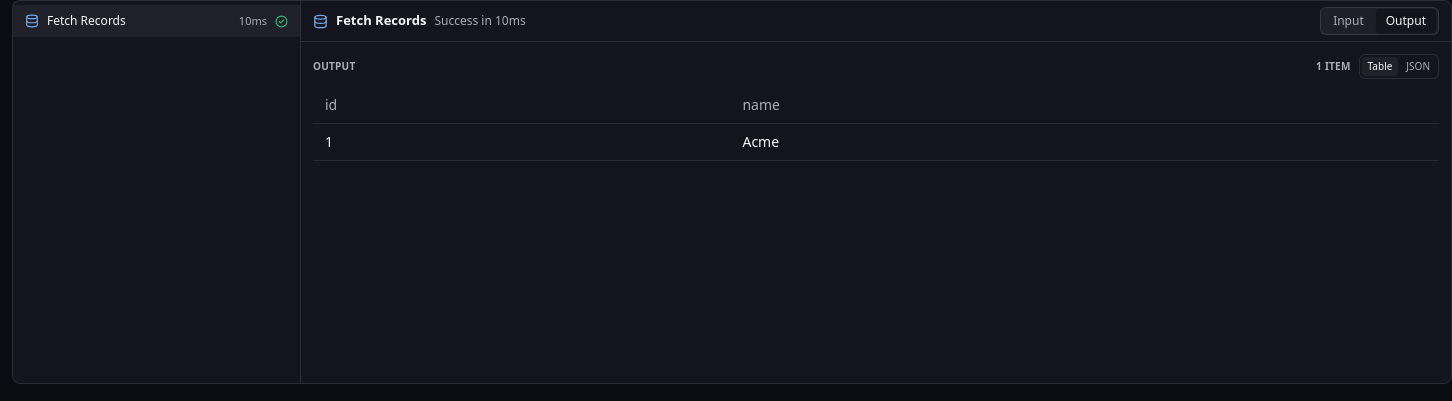
ExecutionLogsPanel › switches a table payload to its full JSON, wrapper fields included
Expected: the table is shown, [313,87,1439,161]
Expected: the text "1 item" is shown, [1316,59,1351,74]
Click the button "JSON".
click(1418, 66)  # box [1400,57,1436,76]
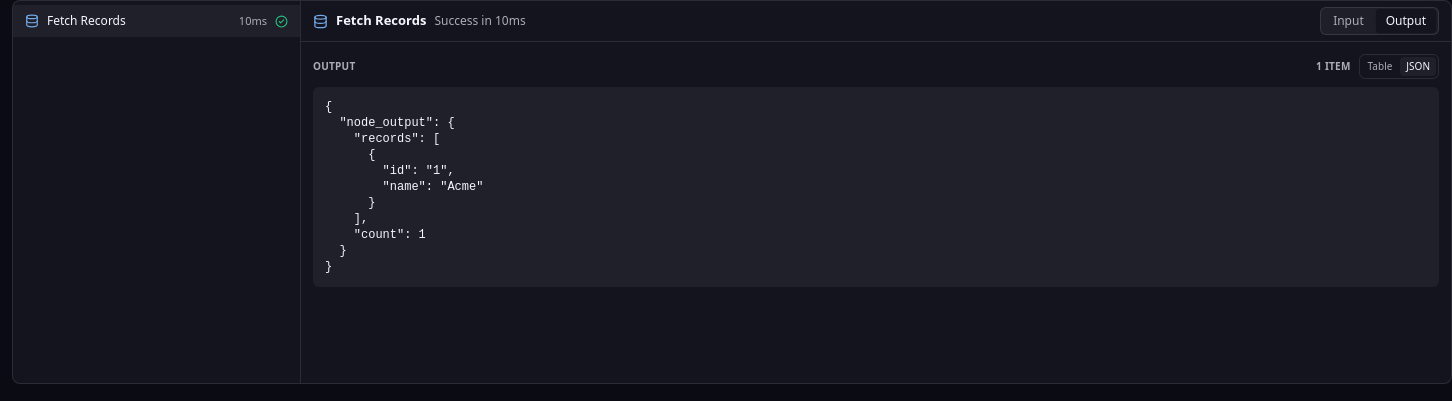
Expected: the table is gone
Expected: the text "\"count\": 1" is shown, [325,100,483,274]
